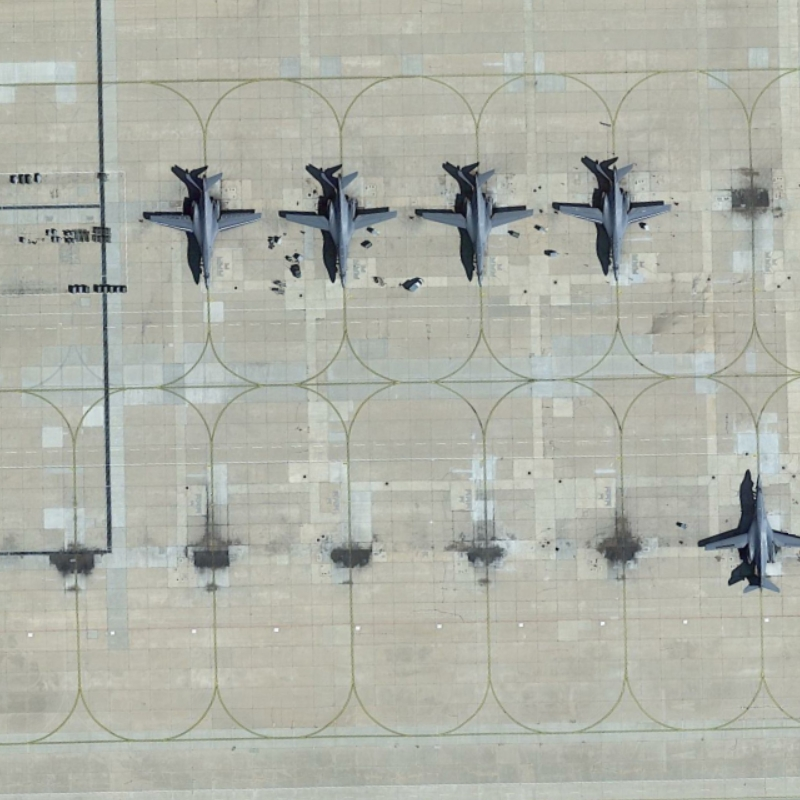A10: (549, 147, 687, 300), (276, 154, 400, 297), (410, 151, 539, 287), (140, 161, 264, 294), (692, 455, 800, 600)
